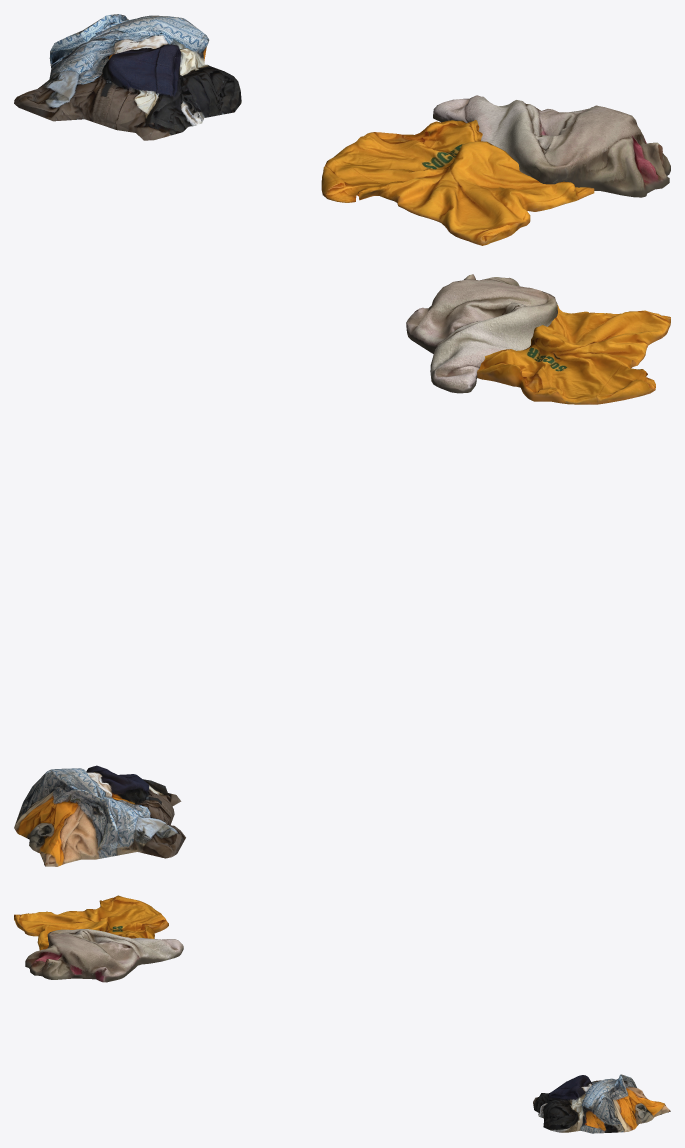
3 views of the same model, one above another, from view 1: azimuth 30°, elevation 25°; view 2: azimuth 150°, elevation 25°; view 3: azimuth 270°, elevation 25° (orthographic). The views are drawn at different scales.
Visible parts, largest first — view 1: StaticMeshActor_4866_12, StaticMeshActor_4864_11, StaticMeshActor_4860_10; view 2: StaticMeshActor_4866_12, StaticMeshActor_4864_11, StaticMeshActor_4860_10; view 3: StaticMeshActor_4860_10, StaticMeshActor_4866_12, StaticMeshActor_4864_11.
Boxes of the visible parts, x1,y1,x2,y2 form: StaticMeshActor_4866_12: (14, 14, 241, 140); StaticMeshActor_4864_11: (321, 120, 594, 245); StaticMeshActor_4860_10: (433, 95, 670, 197); StaticMeshActor_4866_12: (14, 765, 185, 866); StaticMeshActor_4864_11: (477, 304, 670, 404); StaticMeshActor_4860_10: (406, 274, 557, 393); StaticMeshActor_4860_10: (25, 929, 183, 982); StaticMeshActor_4866_12: (533, 1074, 670, 1133); StaticMeshActor_4864_11: (14, 895, 168, 950).
Size of the model in its own units: 0.9277 by 0.8607 by 2.99.
3 materials, 3 textured.
